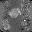people: (9, 8, 22, 19)
